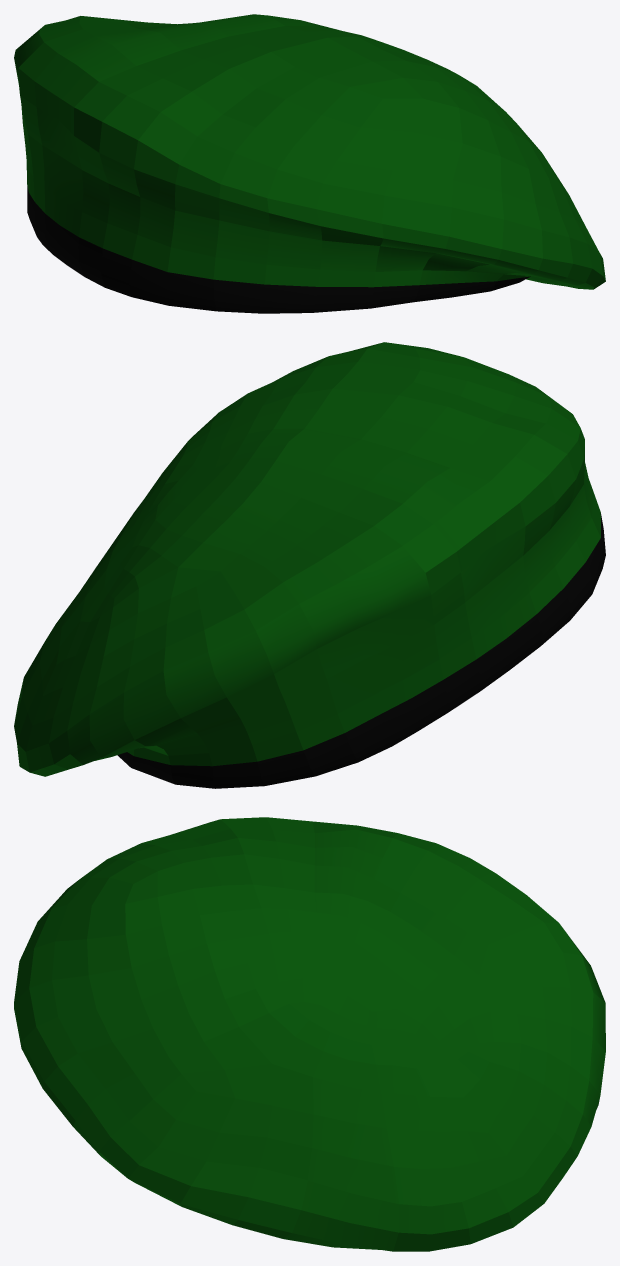
File: Beret.fbx
3 views of the same model, one above another, from view 1: azimuth 30°, elevation 25°; view 2: azimuth 150°, elevation 25°; view 3: azimuth 270°, elevation 25° (orthographic). The views are drawn at different scales.
Visible parts, largest first — view 1: Beret; view 2: Beret; view 3: Beret.
Boxes of the visible parts, x1,y1,x2,y2 form: Beret: (14,14,605,313); Beret: (14,342,605,788); Beret: (14,817,605,1251).
Size of the model in its own units: 3.51 by 2.38 by 4.48.
1 material, 1 textured.
